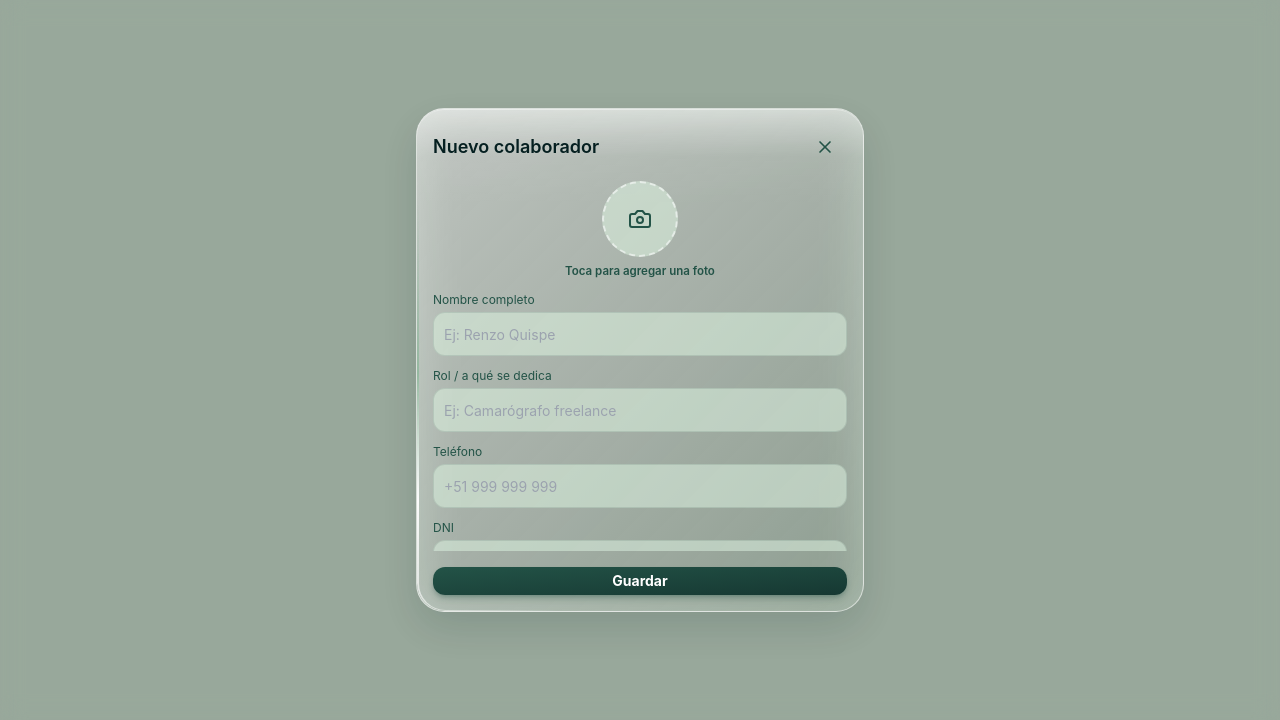
it: CollaboratorEditor › shows an error and keeps the form open when saving fails
The width and height of the screenshot is (1280, 720).
Type "Renzo" into the field labelled "Nombre completo" at (640, 334), box [433,312,847,356]
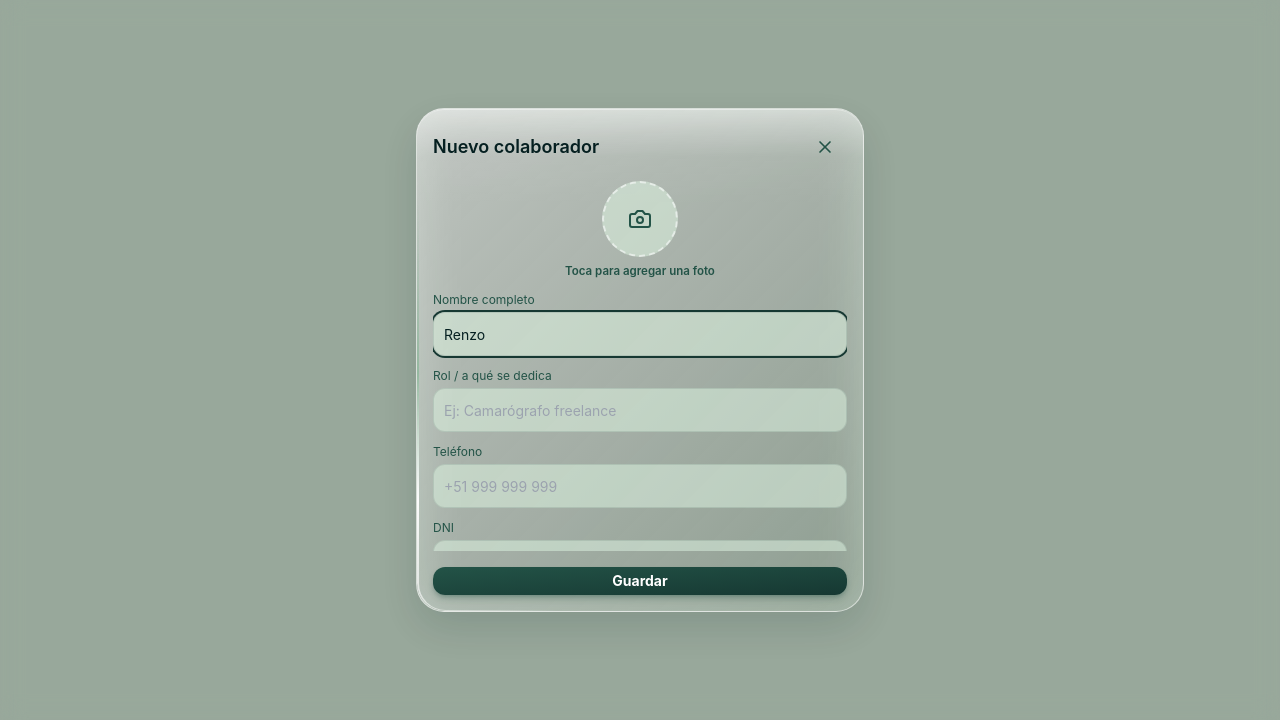
Click the button "Guardar" at (640, 581), box [433,567,847,595]
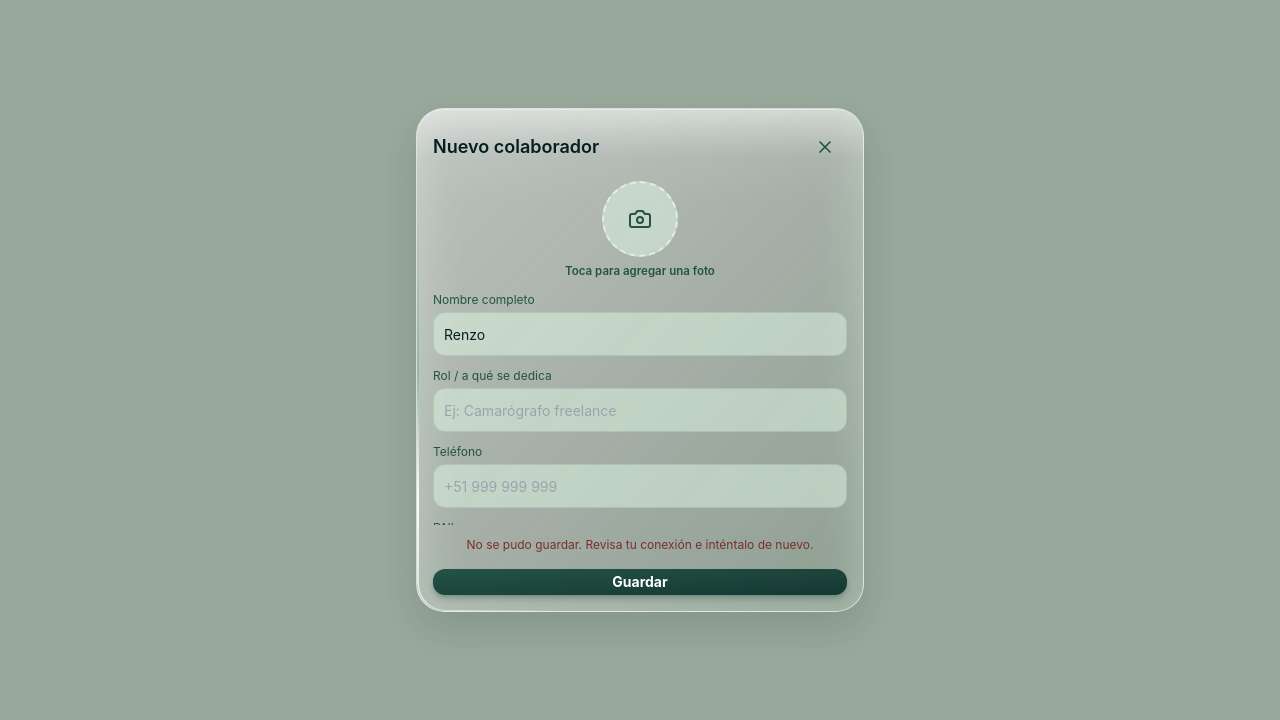
Expected: the text "No se pudo guardar. Revisa tu conexión e inténtalo de nuevo." is shown, [466,537,814,552]
